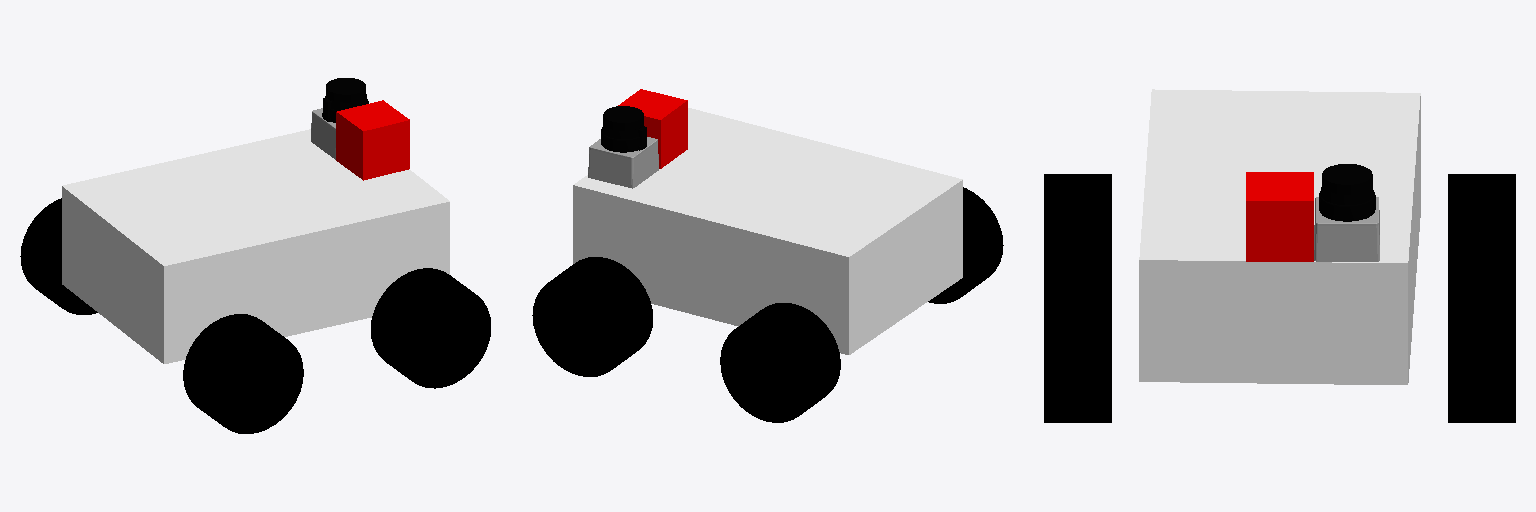
URDF robot description (smartcar):
<?xml version="1.0" ?>
<!-- =================================================================================== -->
<!-- |    This document was autogenerated by xacro from smartcar.xacro                 | -->
<!-- |    EDITING THIS FILE BY HAND IS NOT RECOMMENDED                                 | -->
<!-- =================================================================================== -->
<robot name="smartcar" xmlns:controller="http://playerstage.sourceforge.net/gazebo/xmlschema/#controller" xmlns:interface="http://playerstage.sourceforge.net/gazebo/xmlschema/#interface" xmlns:sensor="http://playerstage.sourceforge.net/gazebo/xmlschema/#sensor" xmlns:xacro="http://www.ros.org/wiki/xacro">
  <!-- materials -->
  <gazebo reference="base_link">
    <material>Gazebo/Orange</material>
  </gazebo>
  <gazebo reference="right_front_wheel">
    <material>Gazebo/Black</material>
  </gazebo>
  <gazebo reference="right_back_wheel">
    <material>Gazebo/Black</material>
  </gazebo>
  <gazebo reference="left_front_wheel">
    <material>Gazebo/Black</material>
  </gazebo>
  <gazebo reference="left_back_wheel">
    <material>Gazebo/Black</material>
  </gazebo>
  <!-- camera_link -->
  <gazebo reference="camera_link">
    <mu1>0.2</mu1>
    <mu2>0.2</mu2>
    <material>Gazebo/Red</material>
  </gazebo>
  <!-- hokuyo -->
  <gazebo reference="hokuyo_link">
    <sensor name="head_hokuyo_sensor" type="ray">
      <pose>0 0 0 0 0 0</pose>
      <visualize>false</visualize>
      <update_rate>40</update_rate>
      <ray>
        <scan>
          <horizontal>
            <samples>720</samples>
            <resolution>1</resolution>
            <min_angle>-1.570796</min_angle>
            <max_angle>1.570796</max_angle>
          </horizontal>
        </scan>
        <range>
          <min>0.10</min>
          <max>30.0</max>
          <resolution>0.01</resolution>
        </range>
        <noise>
          <type>gaussian</type>
          <!-- Noise parameters based on published spec for Hokuyo laser
               achieving "+-30mm" accuracy at range < 10m.  A mean of 0.0m and
               stddev of 0.01m will put 99.7% of samples within 0.03m of the true
               reading. -->
          <mean>0.0</mean>
          <stddev>0.01</stddev>
        </noise>
      </ray>
      <plugin filename="libgazebo_ros_laser.so" name="gazebo_ros_head_hokuyo_controller">
        <topicName>/robot/laser/scan</topicName>
        <frameName>hokuyo_link</frameName>
      </plugin>
    </sensor>
  </gazebo>
  <!-- camera -->
  <gazebo reference="camera_link">
    <sensor name="camera1" type="camera">
      <update_rate>30.0</update_rate>
      <camera name="head">
        <horizontal_fov>1.3962634</horizontal_fov>
        <image>
          <width>800</width>
          <height>800</height>
          <format>R8G8B8</format>
        </image>
        <clip>
          <near>0.02</near>
          <far>300</far>
        </clip>
        <noise>
          <type>gaussian</type>
          <!-- Noise is sampled independently per pixel on each frame.  
               That pixel's noise value is added to each of its color
               channels, which at that point lie in the range [0,1]. -->
          <mean>0.0</mean>
          <stddev>0.007</stddev>
        </noise>
      </camera>
      <plugin filename="libgazebo_ros_camera.so" name="camera_controller">
        <alwaysOn>true</alwaysOn>
        <updateRate>0.0</updateRate>
        <cameraName>robot/camera1</cameraName>
        <imageTopicName>image_raw</imageTopicName>
        <cameraInfoTopicName>camera_info</cameraInfoTopicName>
        <frameName>camera_link</frameName>
        <hackBaseline>0.07</hackBaseline>
        <distortionK1>0.0</distortionK1>
        <distortionK2>0.0</distortionK2>
        <distortionK3>0.0</distortionK3>
        <distortionT1>0.0</distortionT1>
        <distortionT2>0.0</distortionT2>
      </plugin>
    </sensor>
  </gazebo>
  <link name="base_link">
    <visual>
      <geometry>
        <box size="0.2 .3 .1"/>
      </geometry>
      <origin rpy="0 0 1.54" xyz="0 0 0.05"/>
      <material name="white">
        <color rgba="1 1 1 1"/>
      </material>
    </visual>
    <collision>
      <geometry>
        <box size="0.2 .3 0.1"/>
      </geometry>
    </collision>
    <inertial>
      <mass value="10"/>
      <inertia ixx="1.0" ixy="0.0" ixz="0.0" iyy="1.0" iyz="0.0" izz="1.0"/>
    </inertial>
  </link>
  <link name="wheel_1">
    <visual>
      <geometry>
        <cylinder length="0.05" radius="0.05"/>
      </geometry>
      <!-- <origin rpy="0 1.5 0" xyz="0.1 0.1 0"/> -->
      <origin rpy="0 0 0" xyz="0 0 0"/>
      <material name="black">
        <color rgba="0 0 0 1"/>
      </material>
    </visual>
    <collision>
      <geometry>
        <cylinder length="0.05" radius="0.05"/>
      </geometry>
    </collision>
    <inertial>
      <mass value="1"/>
      <inertia ixx="1.0" ixy="0.0" ixz="0.0" iyy="1.0" iyz="0.0" izz="1.0"/>
    </inertial>
  </link>
  <link name="wheel_2">
    <visual>
      <geometry>
        <cylinder length="0.05" radius="0.05"/>
      </geometry>
      <!-- <origin rpy="0 1.5 0" xyz="-0.1 0.1 0"/> -->
      <origin rpy="0 0 0" xyz="0 0 0"/>
      <material name="black"/>
    </visual>
    <collision>
      <geometry>
        <cylinder length="0.05" radius="0.05"/>
      </geometry>
    </collision>
    <inertial>
      <mass value="1"/>
      <inertia ixx="1.0" ixy="0.0" ixz="0.0" iyy="1.0" iyz="0.0" izz="1.0"/>
    </inertial>
  </link>
  <link name="wheel_3">
    <visual>
      <geometry>
        <cylinder length="0.05" radius="0.05"/>
      </geometry>
      <!-- <origin rpy="0 1.5 0" xyz="0.1 -0.1 0"/> -->
      <origin rpy="0 0 0" xyz="0 0 0"/>
      <material name="black"/>
    </visual>
    <collision>
      <geometry>
        <cylinder length="0.05" radius="0.05"/>
      </geometry>
    </collision>
    <inertial>
      <mass value="1"/>
      <inertia ixx="1.0" ixy="0.0" ixz="0.0" iyy="1.0" iyz="0.0" izz="1.0"/>
    </inertial>
  </link>
  <link name="wheel_4">
    <visual>
      <geometry>
        <cylinder length="0.05" radius="0.05"/>
      </geometry>
      <!--	<origin rpy="0 1.5 0" xyz="-0.1 -0.1 0"/> -->
      <origin rpy="0 0 0" xyz="0 0 0"/>
      <material name="black"/>
    </visual>
    <collision>
      <geometry>
        <cylinder length="0.05" radius="0.05"/>
      </geometry>
    </collision>
    <inertial>
      <mass value="1"/>
      <inertia ixx="1.0" ixy="0.0" ixz="0.0" iyy="1.0" iyz="0.0" izz="1.0"/>
    </inertial>
  </link>
  <joint name="base_to_wheel1" type="continuous">
    <parent link="base_link"/>
    <child link="wheel_1"/>
    <origin rpy="-1.5707 0 0" xyz="0.1 0.15 0"/>
    <axis xyz="0 0 1"/>
  </joint>
  <joint name="base_to_wheel2" type="continuous">
    <axis xyz="0 0 1"/>
    <anchor xyz="0 0 0"/>
    <limit effort="100" velocity="100"/>
    <parent link="base_link"/>
    <child link="wheel_2"/>
    <origin rpy="-1.5707 0 0" xyz="-0.1 0.15 0"/>
  </joint>
  <joint name="base_to_wheel3" type="continuous">
    <parent link="base_link"/>
    <axis xyz="0 0 1"/>
    <child link="wheel_3"/>
    <origin rpy="-1.5707 0 0" xyz="0.1 -0.15 0"/>
  </joint>
  <joint name="base_to_wheel4" type="continuous">
    <parent link="base_link"/>
    <axis xyz="0 0 1"/>
    <child link="wheel_4"/>
    <origin rpy="-1.5707 0 0" xyz="-0.1 -0.15 0"/>
  </joint>
  <!-- Camera joint -->
  <joint name="camera_joint" type="fixed">
    <axis xyz="0 1 0"/>
    <origin rpy="0 0 0" xyz="0.125 0 0.125"/>
    <parent link="base_link"/>
    <child link="camera_link"/>
  </joint>
  <!-- Camera -->
  <link name="camera_link">
    <collision>
      <origin rpy="0 0 0" xyz="0 0 0"/>
      <geometry>
        <box size="0.05 0.05 0.05"/>
      </geometry>
    </collision>
    <visual>
      <origin rpy="0 0 0" xyz="0 0 0"/>
      <geometry>
        <box size="0.05 0.05 0.05"/>
      </geometry>
      <material name="red">
        <color rgba="1 0 0 1"/>
      </material>
    </visual>
    <inertial>
      <mass value="1e-5"/>
      <origin rpy="0 0 0" xyz="0 0 0"/>
      <inertia ixx="1e-6" ixy="0" ixz="0" iyy="1e-6" iyz="0" izz="1e-6"/>
    </inertial>
  </link>
  <!-- Hokuyo joint -->
  <joint name="hokuyo_joint" type="fixed">
    <origin rpy="0 0 0" xyz="0.125 0.05 0.125"/>
    <parent link="base_link"/>
    <axis xyz="0 1 0"/>
    <child link="hokuyo_link"/>
  </joint>
  <!-- Hokuyo Laser -->
  <link name="hokuyo_link">
    <collision>
      <origin rpy="0 0 0" xyz="0 0 0"/>
      <geometry>
        <box size="0.1 0.1 0.1"/>
      </geometry>
    </collision>
    <visual>
      <origin rpy="0 0 0" xyz="0 0 0"/>
      <geometry>
        <mesh filename="package://chapter4/robot_description/meshes/hokuyo.dae"/>
      </geometry>
    </visual>
    <inertial>
      <mass value="1e-5"/>
      <origin rpy="0 0 0" xyz="0 0 0"/>
      <inertia ixx="1e-6" ixy="0" ixz="0" iyy="1e-6" iyz="0" izz="1e-6"/>
    </inertial>
  </link>
  <!-- Drive controller -->
  <gazebo>
    <plugin filename="libgazebo_ros_skid_steer_drive.so" name="skid_steer_drive_controller">
      <updateRate>100.0</updateRate>
      <robotNamespace>/</robotNamespace>
      <leftFrontJoint>base_to_wheel1</leftFrontJoint>
      <rightFrontJoint>base_to_wheel3</rightFrontJoint>
      <leftRearJoint>base_to_wheel2</leftRearJoint>
      <rightRearJoint>base_to_wheel4</rightRearJoint>
      <wheelSeparation>4</wheelSeparation>
      <wheelDiameter>0.1</wheelDiameter>
      <robotBaseFrame>base_link</robotBaseFrame>
      <torque>1</torque>
      <topicName>cmd_vel</topicName>
      <broadcastTF>0</broadcastTF>
    </plugin>
  </gazebo>
</robot>

--- Render facts (derived) ---
Views: 3 orthographic renders of the robot side by side, from view 1: azimuth 30°, elevation 25°; view 2: azimuth 150°, elevation 25°; view 3: azimuth 270°, elevation 25°.
Robot: smartcar — 7 links, 6 joints (4 continuous, 2 fixed); root link base_link; default pose: all joints at 0.
Visible links, largest first — view 1: base_link, wheel_4, wheel_3, camera_link, wheel_2, hokuyo_link; view 2: base_link, wheel_2, wheel_1, hokuyo_link, wheel_4, camera_link; view 3: base_link, wheel_1, wheel_3, wheel_2, wheel_4, camera_link, hokuyo_link.
Link boxes in pixels (box(x1,y1,x2,y2)): base_link: box(62, 129, 449, 363); wheel_4: box(183, 314, 303, 433); wheel_3: box(371, 268, 490, 388); camera_link: box(336, 100, 409, 180); wheel_2: box(20, 198, 97, 314); hokuyo_link: box(311, 78, 368, 159); base_link: box(573, 108, 962, 354); wheel_2: box(720, 303, 840, 422); wheel_1: box(532, 257, 652, 376); hokuyo_link: box(588, 106, 658, 188); wheel_4: box(928, 187, 1003, 303); camera_link: box(618, 89, 687, 168); base_link: box(1139, 89, 1420, 384); wheel_1: box(1448, 288, 1515, 422); wheel_3: box(1044, 288, 1111, 422); wheel_2: box(1448, 174, 1515, 287); wheel_4: box(1044, 174, 1111, 287); camera_link: box(1246, 172, 1313, 261); hokuyo_link: box(1314, 164, 1379, 261).
Size in the robot's own frame: 0.306 by 0.35 by 0.2101 metres.
Meshes: 1 distinct files referenced, 1 mesh visuals loaded (1 Collada DAE).
